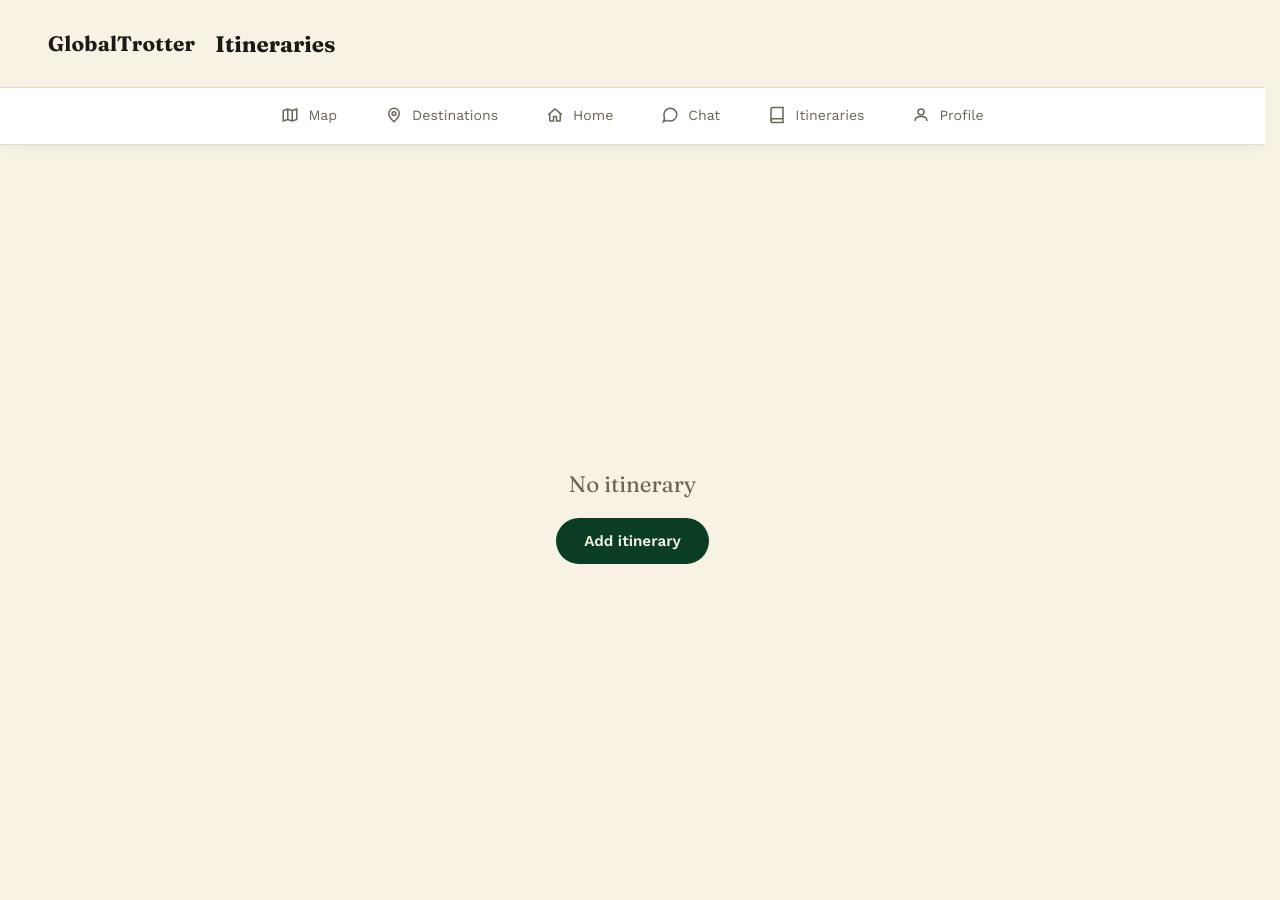
Test: Itineraries › shows an error when submitting without a title
The width and height of the screenshot is (1280, 900).
Click the button "Add itinerary": (633,541) [556,518,709,564]
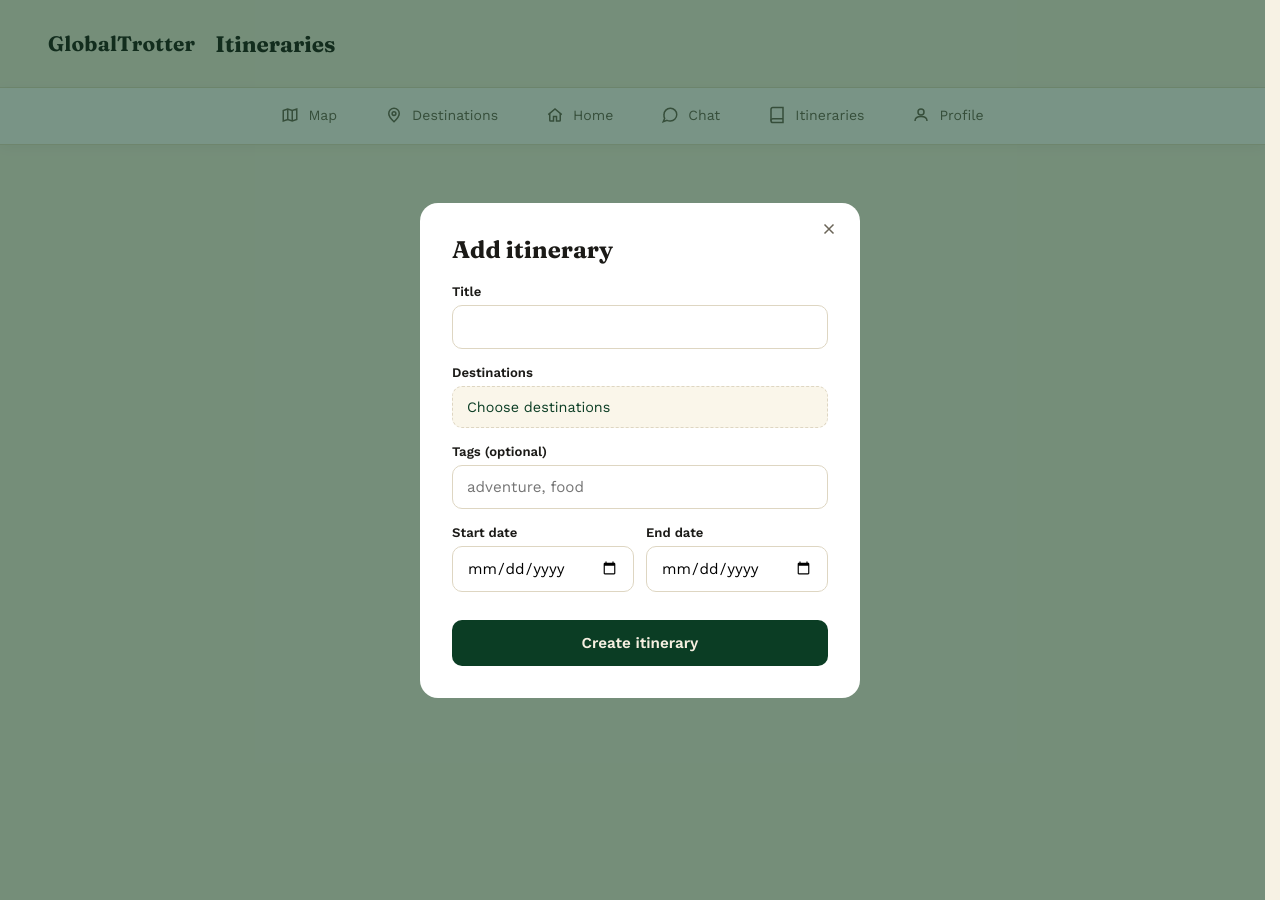
Click the button "Create itinerary": (640,642) [452,620,828,666]
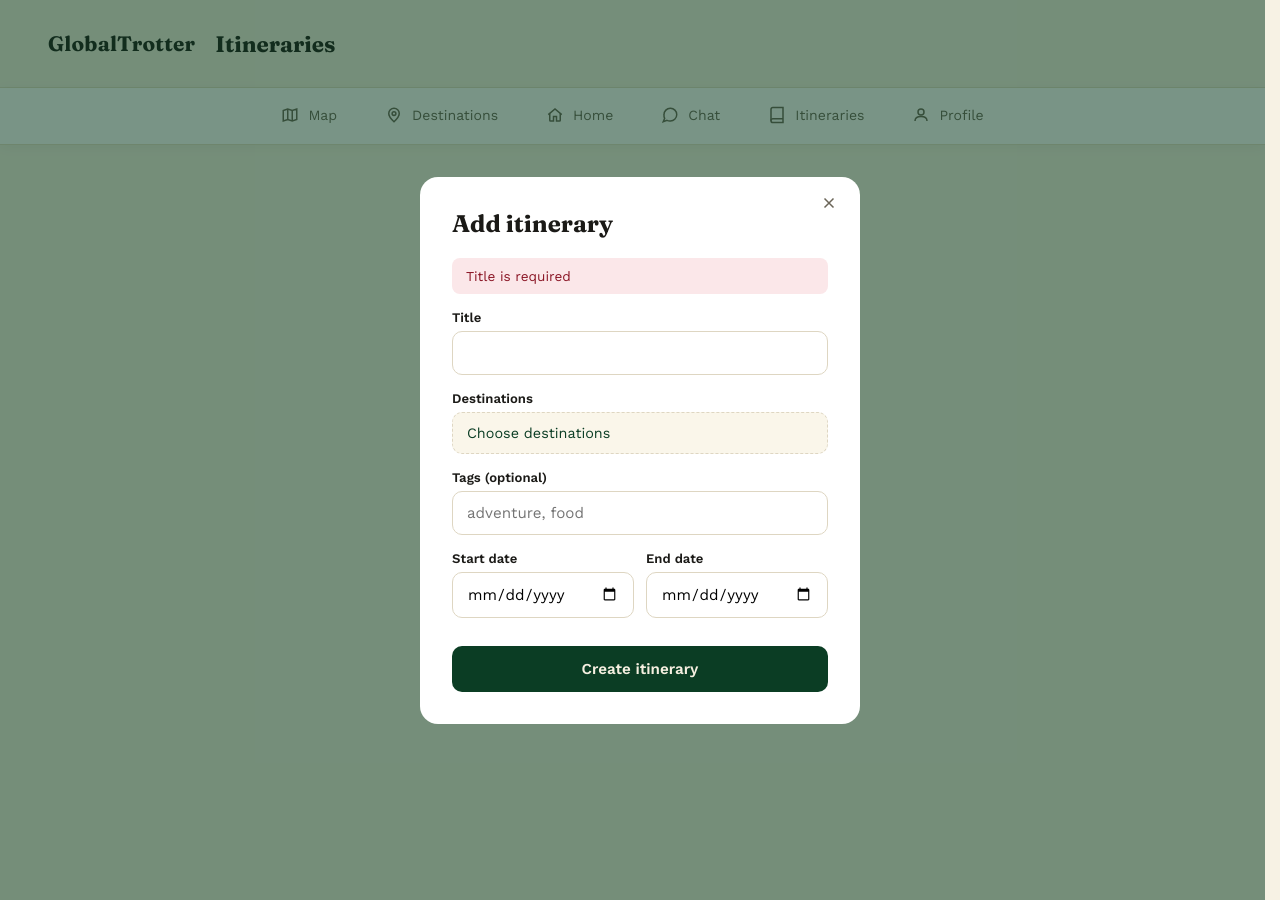
Expected: the text "Title is required" is shown, [452,258,828,294]
